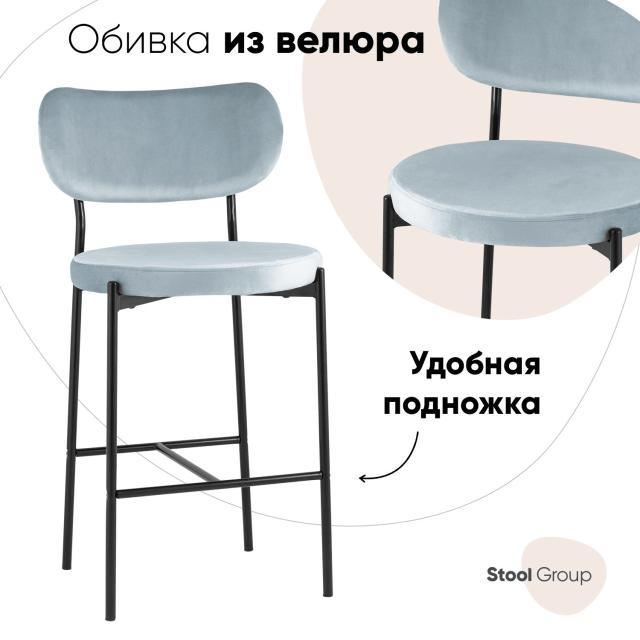chair: (39, 76, 342, 622), (44, 73, 338, 294), (406, 0, 640, 222)
